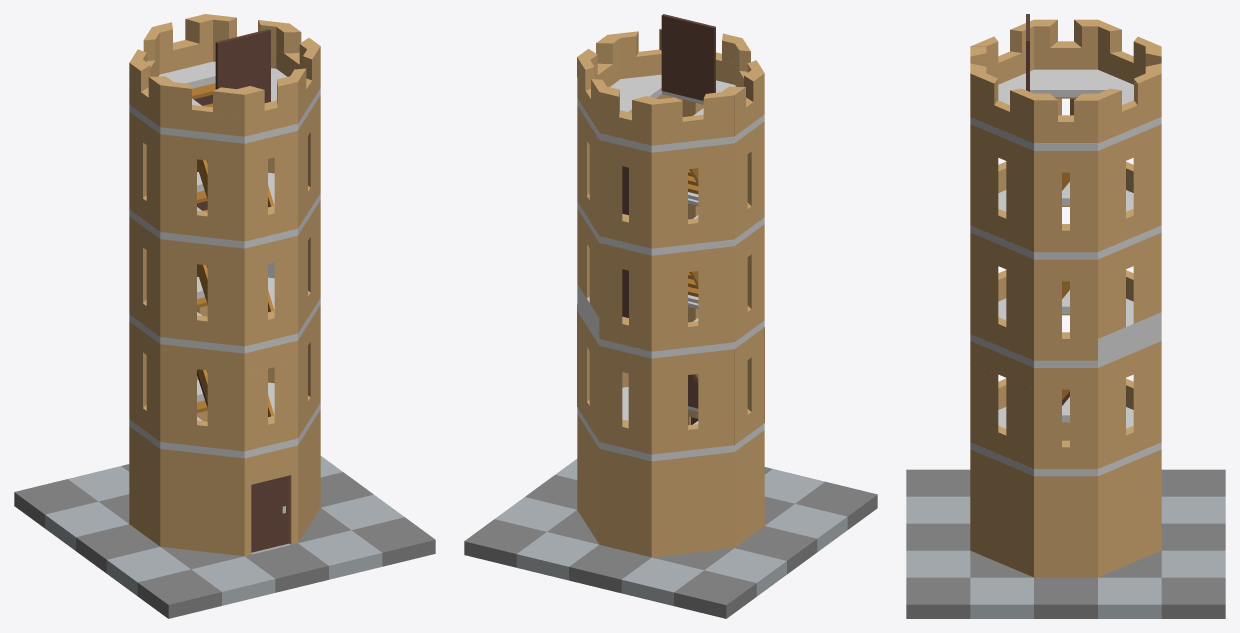
The model's file is Bishop.glb.
3 views of the same model, side by side, from view 1: azimuth 30°, elevation 25°; view 2: azimuth 150°, elevation 25°; view 3: azimuth 270°, elevation 25° (orthographic). The views are drawn at different scales.
Parts seen in each view (by area): view 1: node_MeshObject-357657600-PolyPaper21, node_MeshObject1682390016-PolyPaper21; view 2: node_MeshObject-357657600-PolyPaper21, node_MeshObject1682390016-PolyPaper21; view 3: node_MeshObject-357657600-PolyPaper21, node_MeshObject1682390016-PolyPaper21.
Part boxes in pixels (x1=…): node_MeshObject-357657600-PolyPaper21: x1=14, y1=29, x2=435, y2=618; node_MeshObject1682390016-PolyPaper21: x1=129, y1=14, x2=320, y2=513; node_MeshObject-357657600-PolyPaper21: x1=464, y1=14, x2=877, y2=618; node_MeshObject1682390016-PolyPaper21: x1=577, y1=28, x2=764, y2=451; node_MeshObject-357657600-PolyPaper21: x1=906, y1=14, x2=1225, y2=618; node_MeshObject1682390016-PolyPaper21: x1=970, y1=19, x2=1161, y2=422.
Size of the model in its own units: 0.8 by 1.45 by 0.8.
